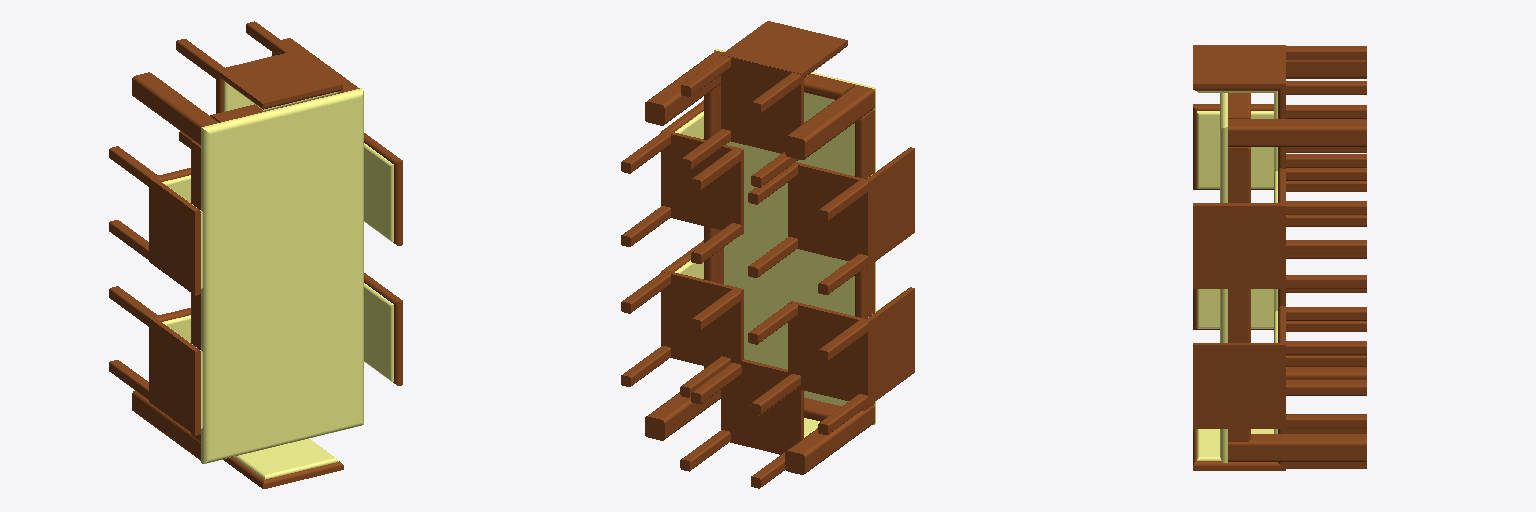
File: table_and_chair_2.obj
The picture shows the model from 3 angles: view 1: azimuth 30°, elevation 25°; view 2: azimuth 150°, elevation 25°; view 3: azimuth 270°, elevation 25°; orthographic projection.
Parts seen in each view (by area): view 1: Mesh37 Group8 Group7 Model, Mesh12 Component_4_4 Group2 Model, Mesh36 Component_4_12 Group6 Model, Mesh24 Component_4_8 Group4 Model, Mesh6 Component_4_2 Group1 Model, Mesh30 Component_4_10 Group5 Model, Mesh18 Component_4_6 Group3 Model, Mesh39 Component_1_1 Group7 Model, Mesh40 Component_1_2 Group7 Model, Mesh44 Component_2_2 Group7 Model, Mesh20 Component_4_7 Group4 Model, Mesh35 Component_6_24 Group6 Model (+8 smaller); view 2: Mesh37 Group8 Group7 Model, Mesh32 Component_4_11 Group6 Model, Mesh8 Component_4_3 Group2 Model, Mesh2 Component_4_1 Group1 Model, Mesh20 Component_4_7 Group4 Model, Mesh26 Component_4_9 Group5 Model, Mesh14 Component_4_5 Group3 Model, Mesh12 Component_4_4 Group2 Model, Mesh36 Component_4_12 Group6 Model, Mesh24 Component_4_8 Group4 Model, Mesh39 Component_1_1 Group7 Model, Mesh40 Component_1_2 Group7 Model (+28 smaller); view 3: Mesh6 Component_4_2 Group1 Model, Mesh30 Component_4_10 Group5 Model, Mesh24 Component_4_8 Group4 Model, Mesh43 Component_1_4 Group7 Model, Mesh42 Component_1_3 Group7 Model, Mesh36 Component_4_12 Group6 Model, Mesh41 Component_2_1 Group7 Model, Mesh12 Component_4_4 Group2 Model, Mesh18 Component_4_6 Group3 Model, Mesh37 Group8 Group7 Model, Mesh39 Component_1_1 Group7 Model, Mesh4 Component_6_3 Group1 Model (+19 smaller).
Boxes of the visible parts, box(x1,y1,x2,y2) form: Mesh37 Group8 Group7 Model: box(201, 88, 363, 463); Mesh12 Component_4_4 Group2 Model: box(149, 317, 202, 435); Mesh36 Component_4_12 Group6 Model: box(149, 178, 202, 295); Mesh24 Component_4_8 Group4 Model: box(217, 50, 342, 110); Mesh6 Component_4_2 Group1 Model: box(364, 273, 402, 385); Mesh30 Component_4_10 Group5 Model: box(364, 133, 402, 245); Mesh18 Component_4_6 Group3 Model: box(223, 439, 343, 488); Mesh39 Component_1_1 Group7 Model: box(132, 72, 218, 145); Mesh40 Component_1_2 Group7 Model: box(132, 391, 200, 460); Mesh44 Component_2_2 Group7 Model: box(191, 141, 200, 441); Mesh20 Component_4_7 Group4 Model: box(216, 70, 253, 113); Mesh35 Component_6_24 Group6 Model: box(109, 146, 157, 186); Mesh37 Group8 Group7 Model: box(714, 49, 875, 424); Mesh32 Component_4_11 Group6 Model: box(788, 162, 869, 265); Mesh8 Component_4_3 Group2 Model: box(788, 301, 869, 405); Mesh2 Component_4_1 Group1 Model: box(661, 270, 743, 366); Mesh20 Component_4_7 Group4 Model: box(721, 55, 803, 153); Mesh26 Component_4_9 Group5 Model: box(661, 130, 743, 234); Mesh14 Component_4_5 Group3 Model: box(721, 359, 803, 454); Mesh12 Component_4_4 Group2 Model: box(866, 287, 914, 405); Mesh36 Component_4_12 Group6 Model: box(867, 147, 914, 265); Mesh24 Component_4_8 Group4 Model: box(721, 21, 847, 77); Mesh39 Component_1_1 Group7 Model: box(785, 85, 874, 159); Mesh40 Component_1_2 Group7 Model: box(785, 405, 874, 474); Mesh6 Component_4_2 Group1 Model: box(1193, 343, 1285, 428); Mesh30 Component_4_10 Group5 Model: box(1193, 203, 1285, 288); Mesh24 Component_4_8 Group4 Model: box(1193, 45, 1285, 92); Mesh43 Component_1_4 Group7 Model: box(1228, 119, 1366, 146); Mesh42 Component_1_3 Group7 Model: box(1228, 434, 1366, 461); Mesh36 Component_4_12 Group6 Model: box(1193, 104, 1273, 189); Mesh41 Component_2_1 Group7 Model: box(1228, 147, 1250, 441); Mesh12 Component_4_4 Group2 Model: box(1193, 289, 1273, 329); Mesh18 Component_4_6 Group3 Model: box(1193, 429, 1285, 470); Mesh37 Group8 Group7 Model: box(1220, 93, 1227, 462); Mesh39 Component_1_1 Group7 Model: box(1286, 60, 1366, 78); Mesh4 Component_6_3 Group1 Model: box(1286, 414, 1366, 428).
Size of the model in its own units: 62.22 by 110 by 44.99.